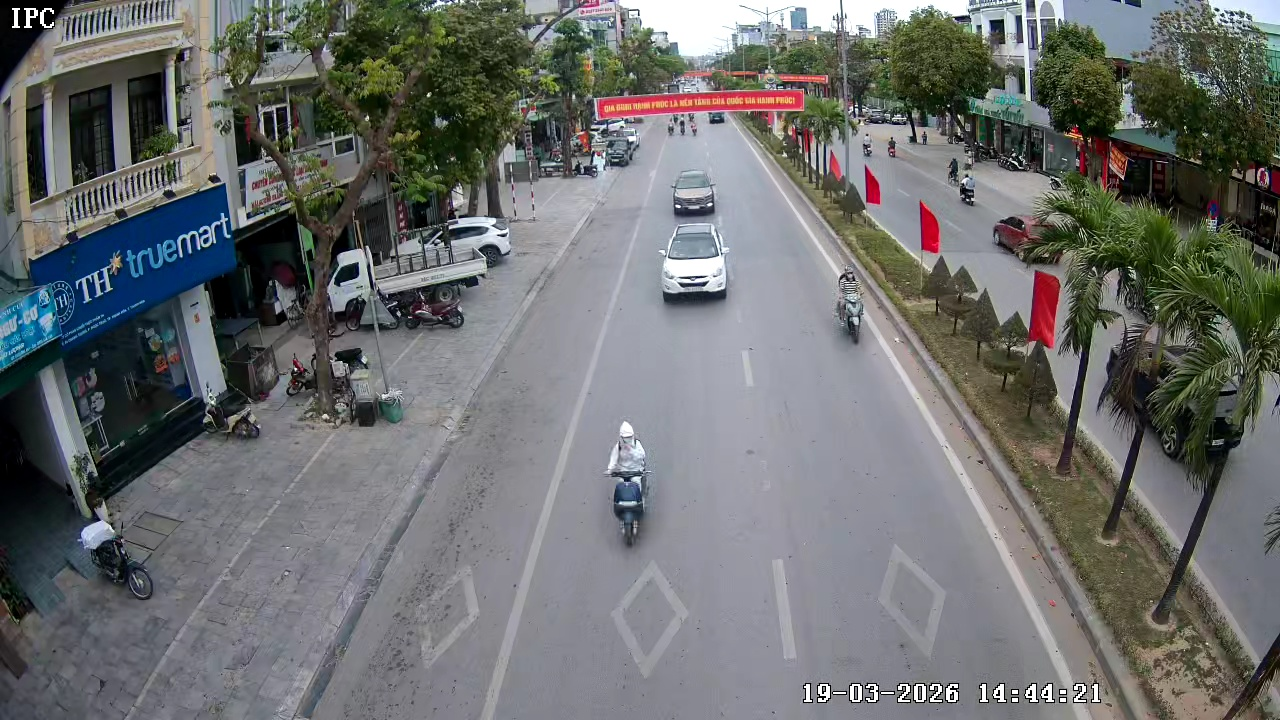car: (657, 220, 733, 303), (671, 168, 719, 217)
motorbike: (601, 421, 655, 547), (77, 514, 156, 600), (831, 265, 868, 344)
